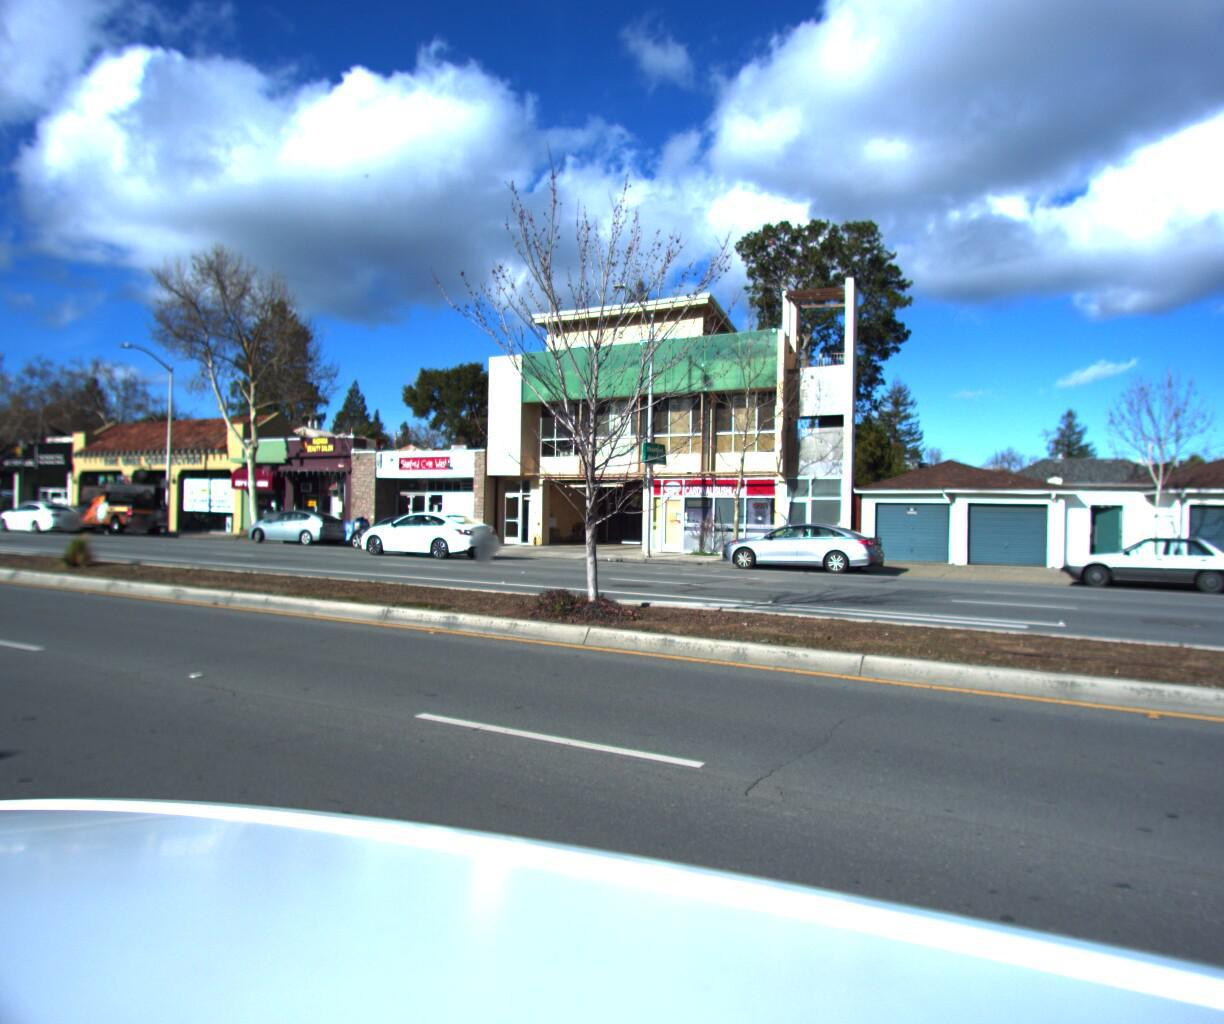car: (1054, 532, 1224, 598), (713, 519, 889, 576), (353, 510, 511, 560), (67, 474, 172, 537), (341, 516, 460, 555), (239, 508, 351, 547), (0, 499, 90, 536)
